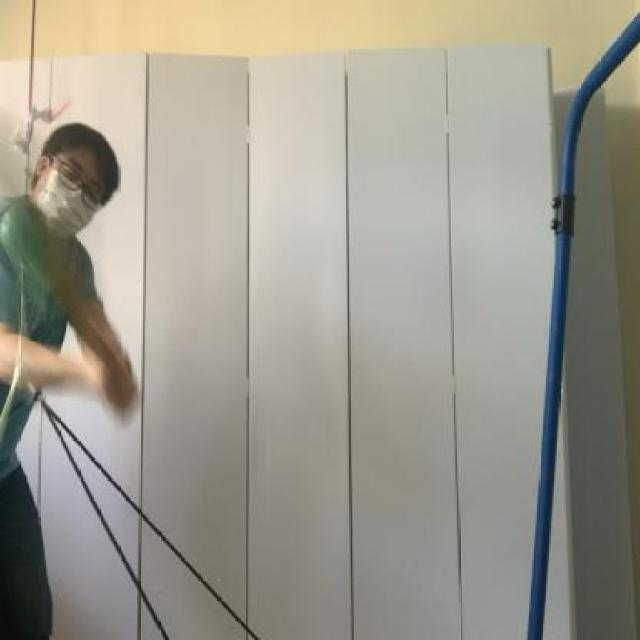baseball: (0, 188, 74, 324)
